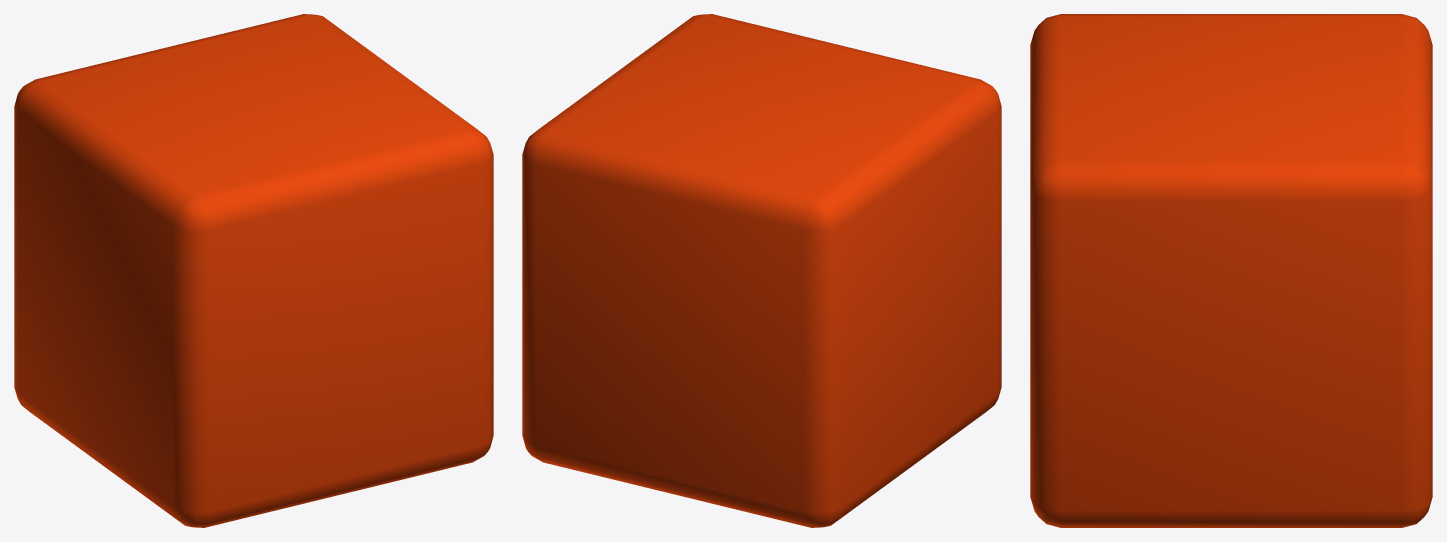
Rendered from krmzkupson.fbx.
3 renders of one model, left to right at view 1: azimuth 30°, elevation 25°; view 2: azimuth 150°, elevation 25°; view 3: azimuth 270°, elevation 25°, orthographic. The views are drawn at different scales.
Visible parts, largest first — view 1: Cube; view 2: Cube; view 3: Cube.
Boxes of the visible parts, left/top/right/bottom form: Cube: left=14, top=14, right=493, bottom=527; Cube: left=522, top=14, right=1001, bottom=527; Cube: left=1030, top=14, right=1432, bottom=527.
Size of the model in its own units: 200 by 200 by 200.
